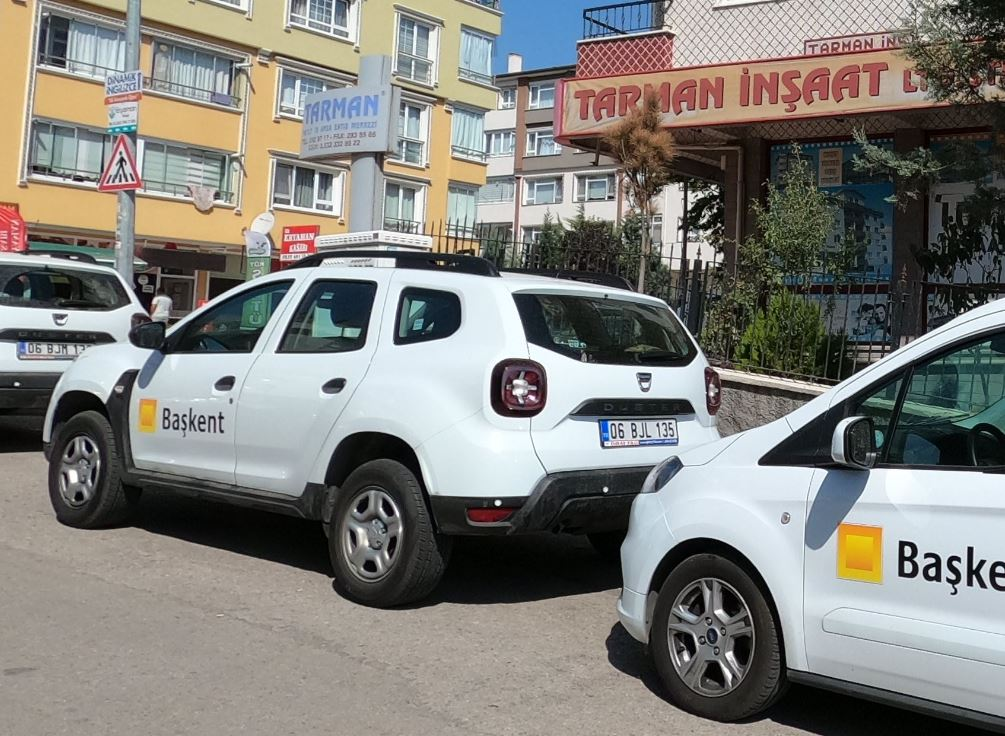Yaya Gecidi: (98, 132, 145, 187)
